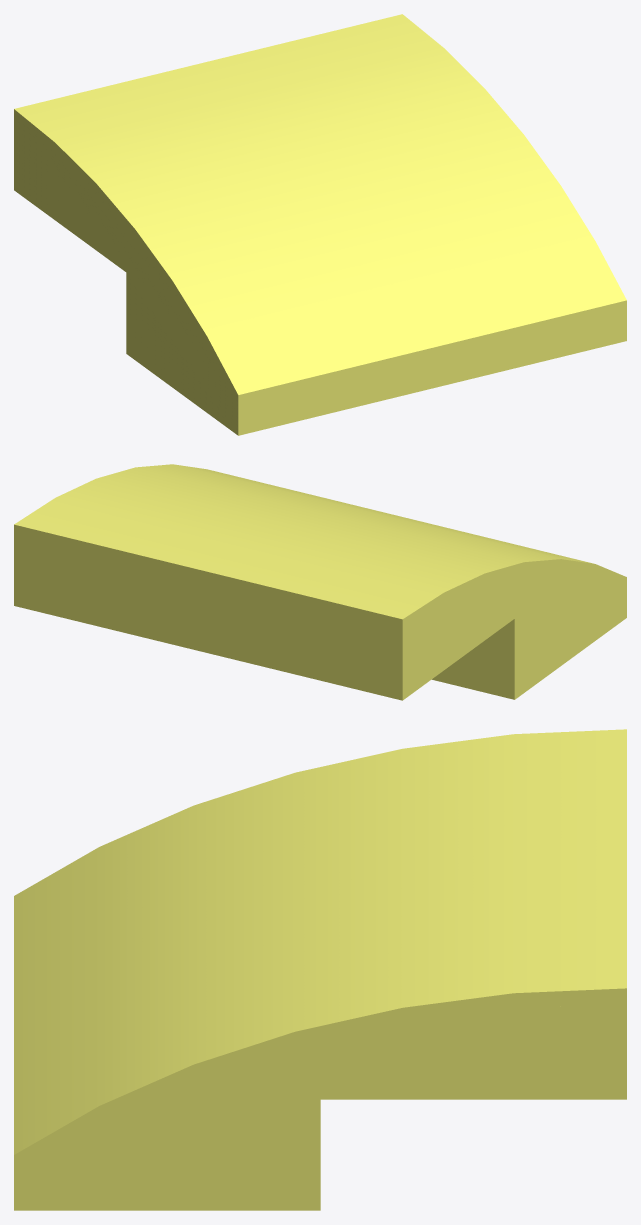
The picture shows the model from 3 angles, top to bottom: view 1: azimuth 30°, elevation 25°; view 2: azimuth 150°, elevation 25°; view 3: azimuth 270°, elevation 25°; orthographic projection. The views are drawn at different scales.
Visible parts, largest first — view 1: 15068.dat; view 2: 15068.dat; view 3: 15068.dat.
Part boxes in pixels (<box>): 15068.dat: <box>14,14,626,435</box>; 15068.dat: <box>14,464,626,700</box>; 15068.dat: <box>14,729,626,1210</box>.
Size of the model in its own units: 0.016 by 0.0064 by 0.016.
